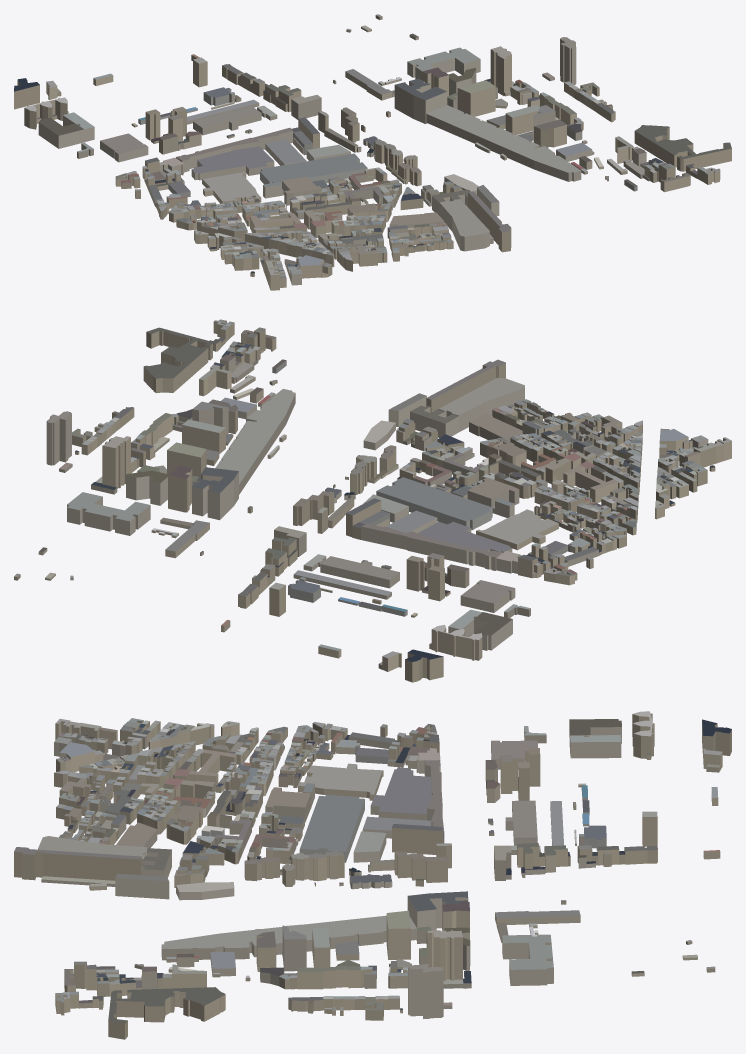
The picture shows the model from 3 angles, top to bottom: view 1: azimuth 30°, elevation 25°; view 2: azimuth 150°, elevation 25°; view 3: azimuth 270°, elevation 25°; orthographic projection. The views are drawn at different scales.
Parts seen in each view (by area): view 1: tuile; view 2: tuile; view 3: tuile.
Boxes of the visible parts, <box> form: tuile: <box>14,14,731,290</box>; tuile: <box>14,319,731,682</box>; tuile: <box>14,711,731,1039</box>.
Size of the model in its own units: 1107 by 85.77 by 1093.
